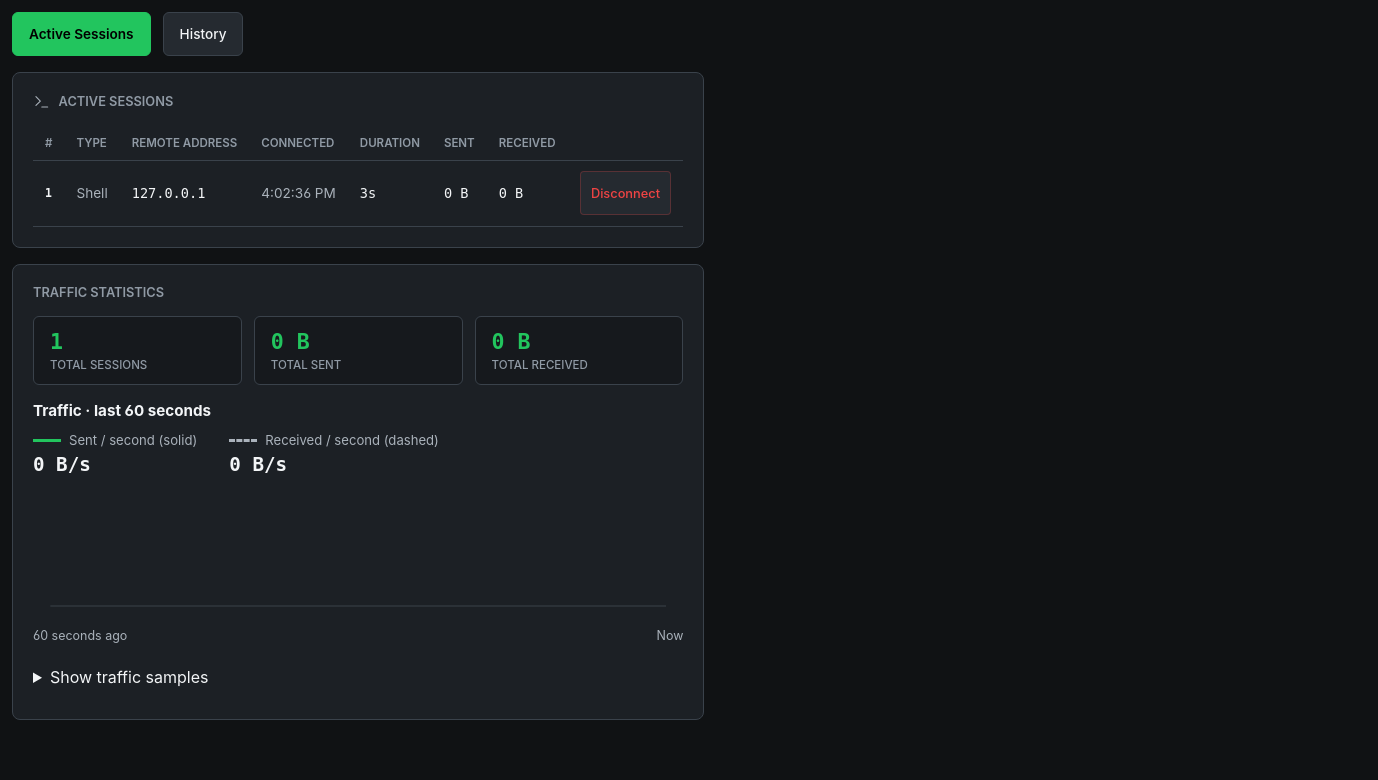
Test case: rejects a mismatched history DTO rather than displaying another scope
Expected: the text "127.0.0.1" is shown, [120,161,249,226]
Click the button "History" at (203, 34), box [163,12,244,56]
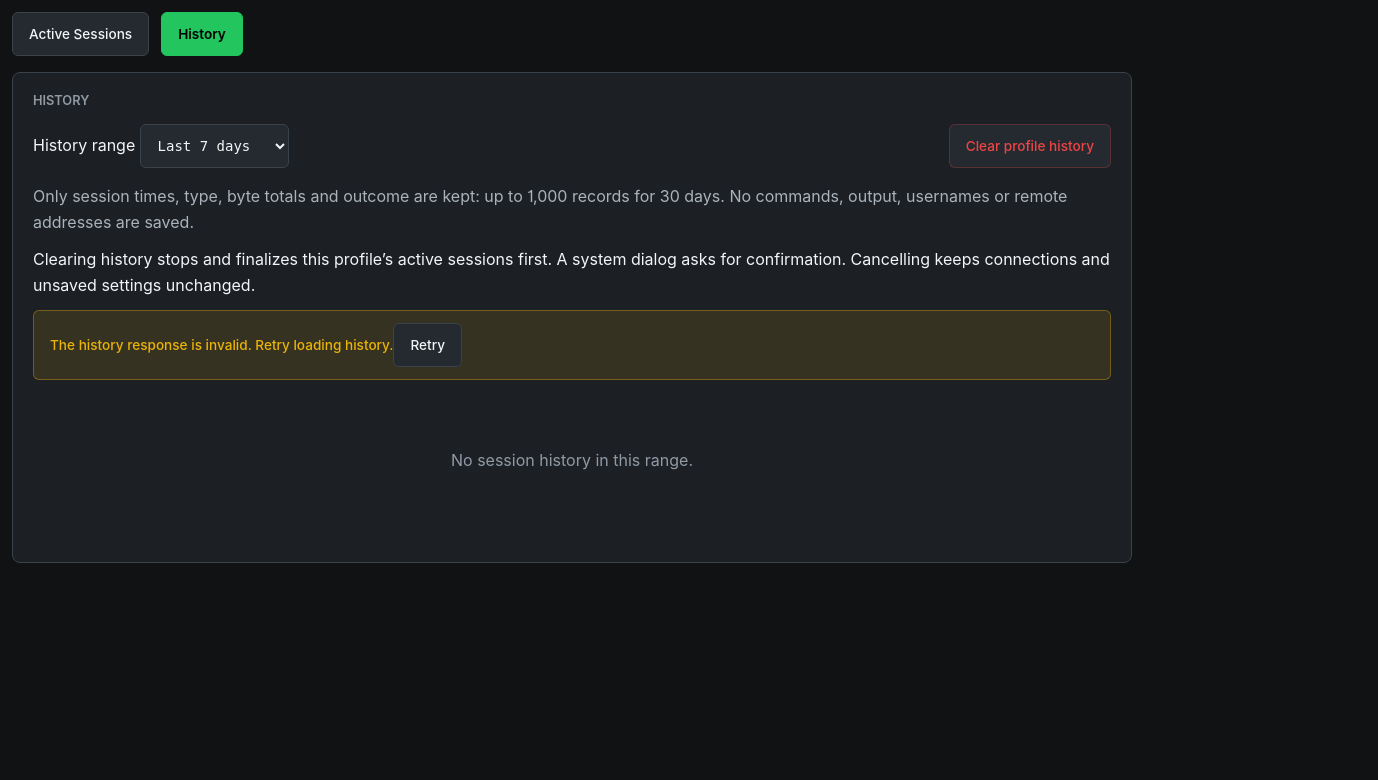
Expected: the message shows "The history response is invalid", [50,337,394,353]
